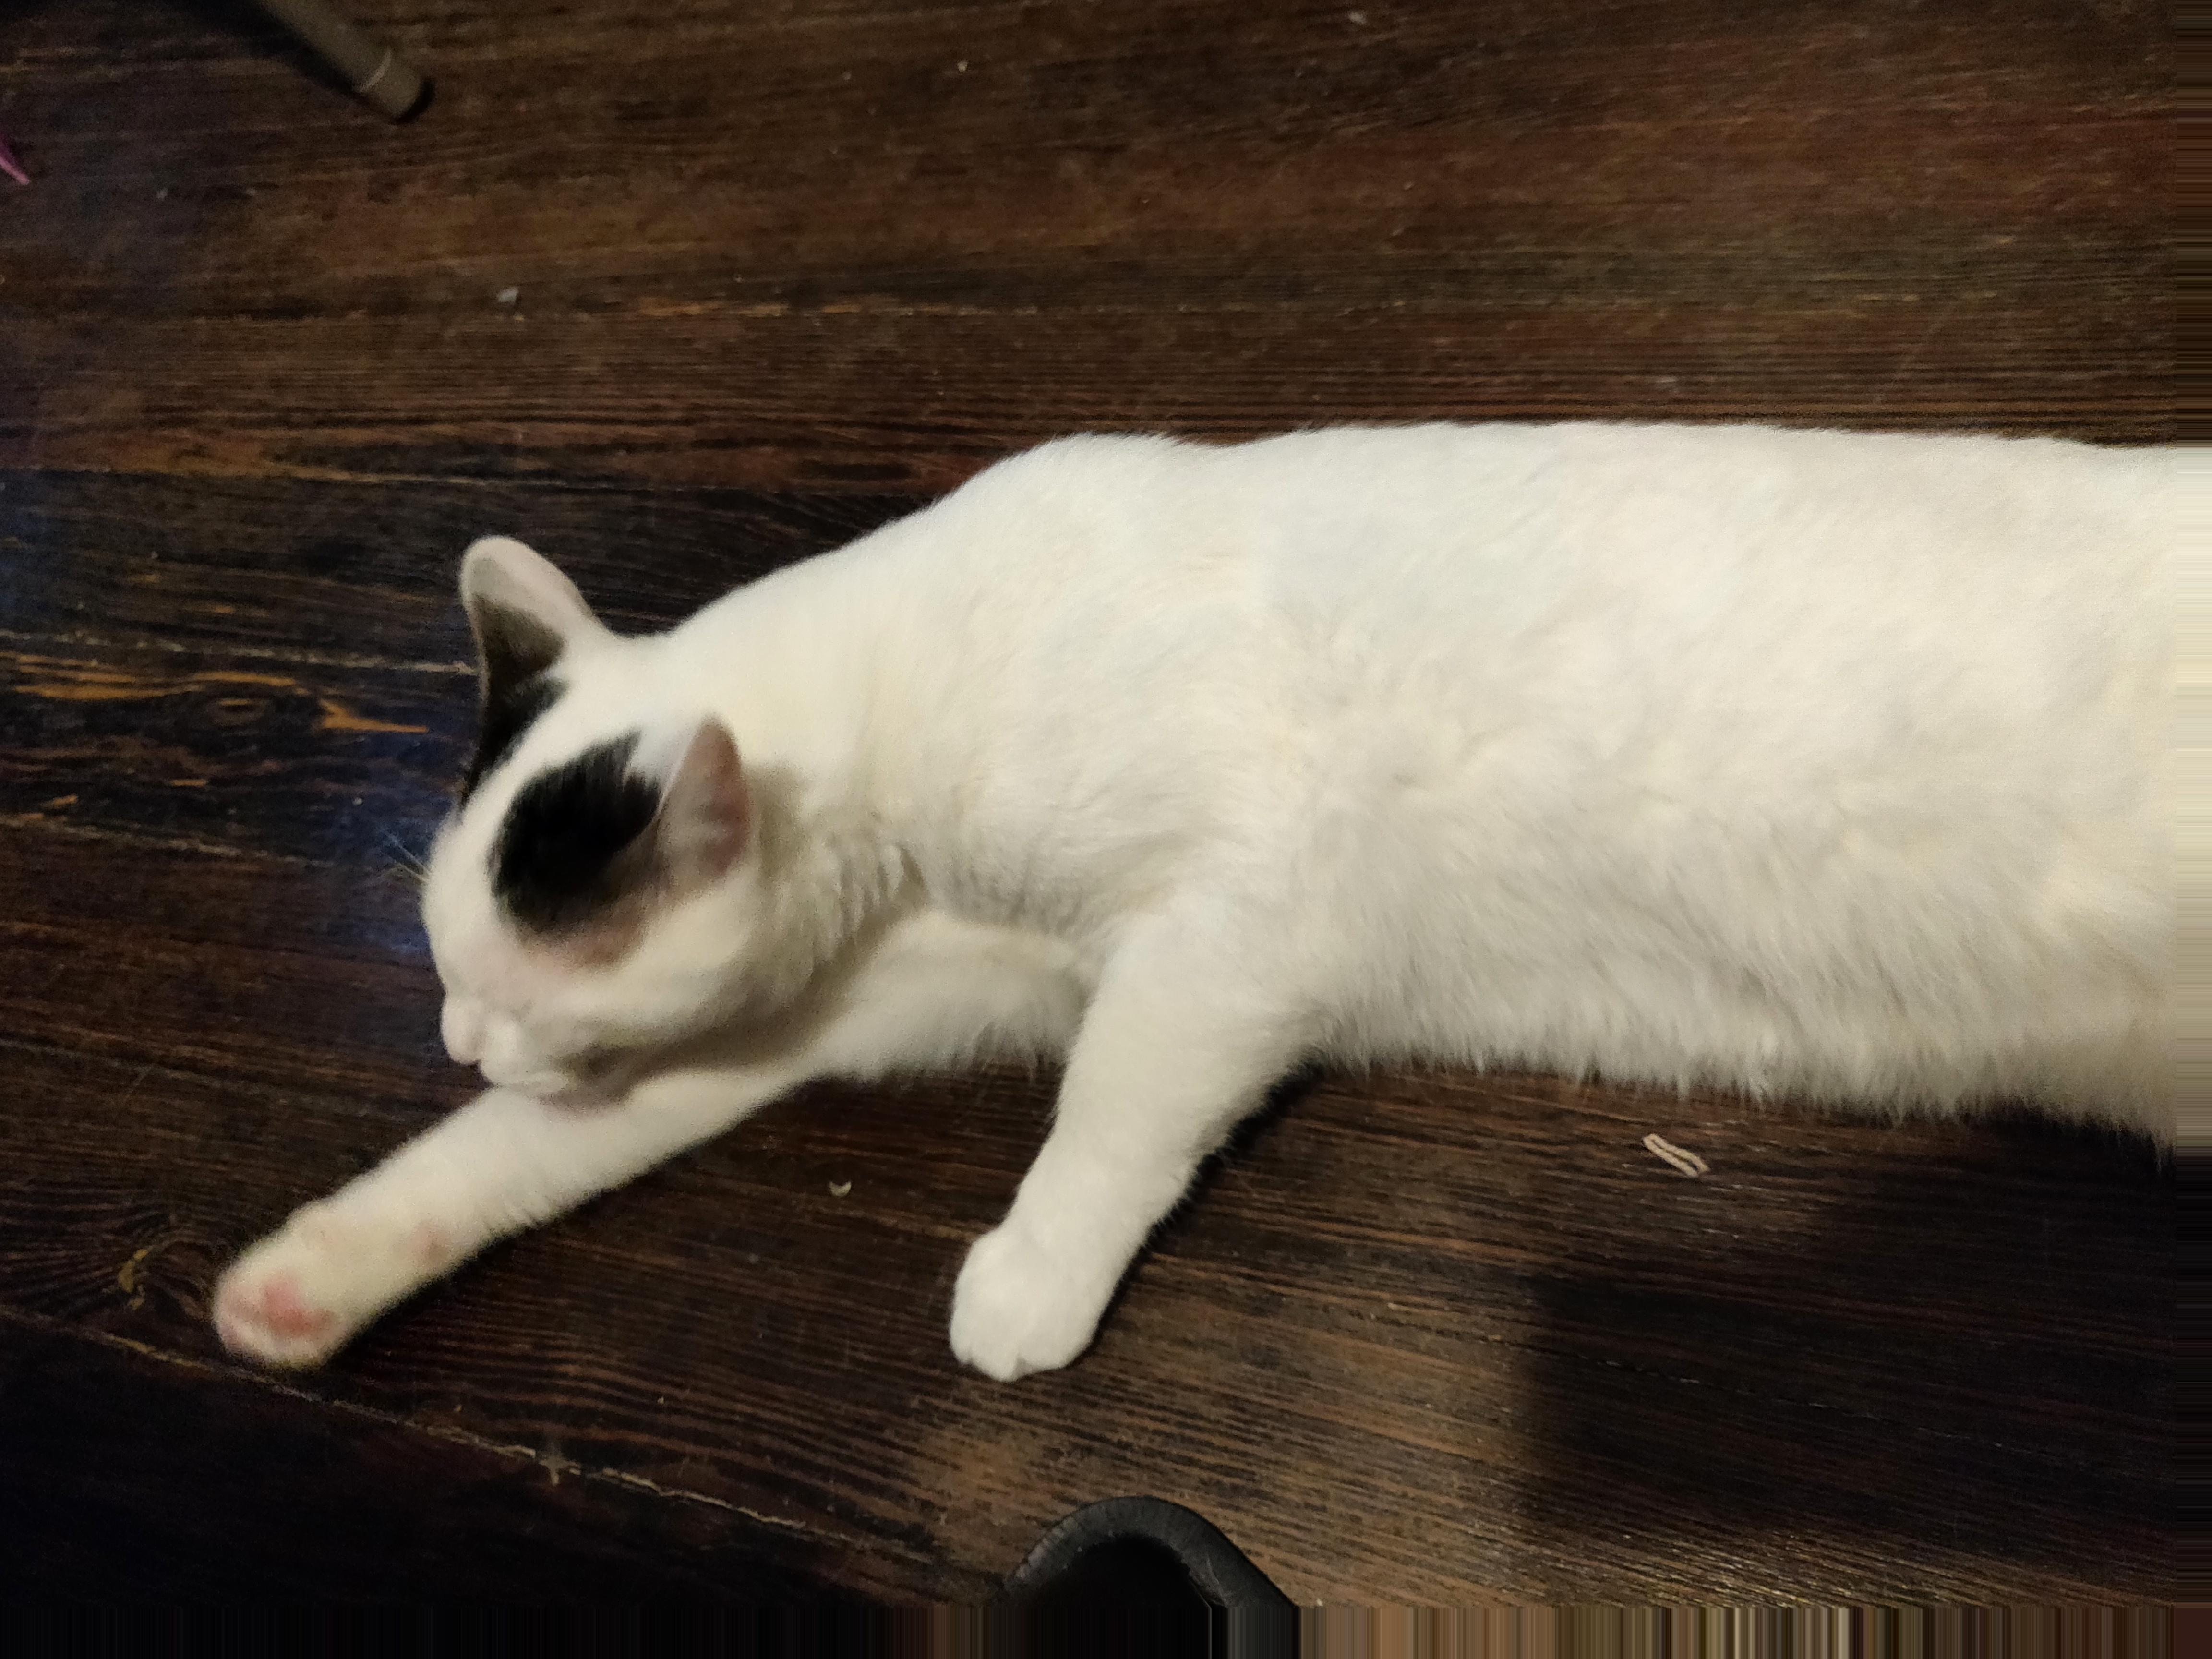cat: (235, 421, 2194, 1382)
